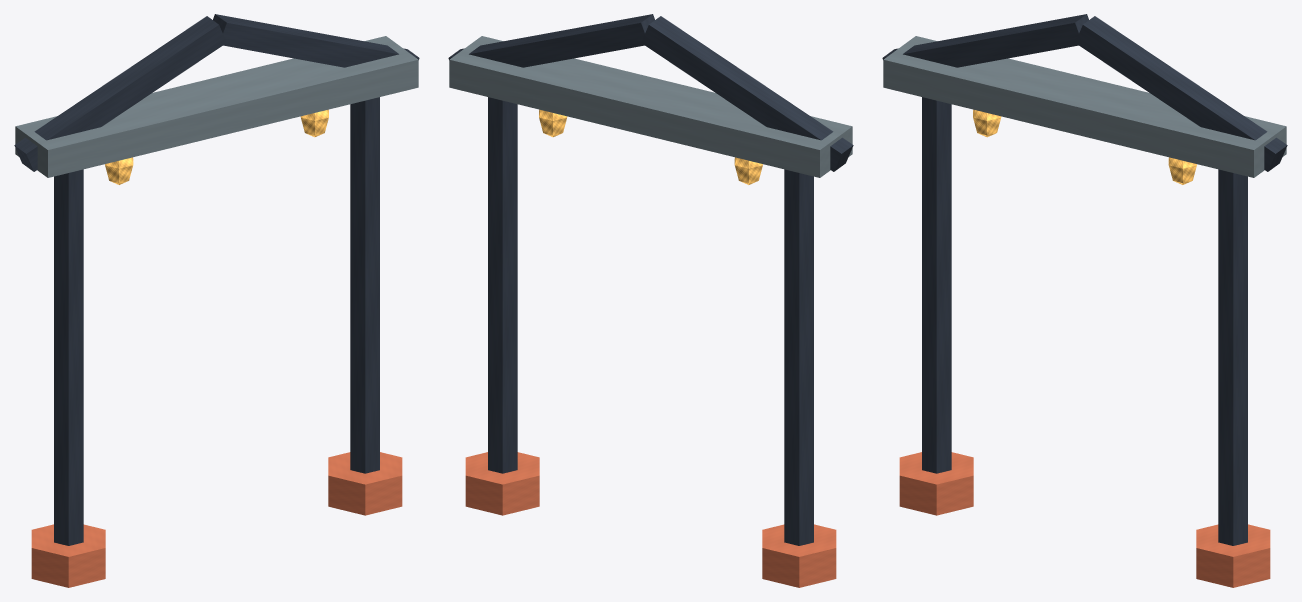
File: atlas100-s021-a09.glb
3 views of the same model, side by side, from view 1: azimuth 30°, elevation 25°; view 2: azimuth 150°, elevation 25°; view 3: azimuth 330°, elevation 25° (orthographic).
Parts seen in each view (by area): view 1: atlas100-s021-a09:part-004, atlas100-s021-a09:part-000, atlas100-s021-a09:part-002, atlas100-s021-a09:part-005, atlas100-s021-a09:part-006, atlas100-s021-a09:part-003, atlas100-s021-a09:part-001, atlas100-s021-a09:part-007, atlas100-s021-a09:part-008; view 2: atlas100-s021-a09:part-004, atlas100-s021-a09:part-000, atlas100-s021-a09:part-002, atlas100-s021-a09:part-005, atlas100-s021-a09:part-006, atlas100-s021-a09:part-003, atlas100-s021-a09:part-001, atlas100-s021-a09:part-007, atlas100-s021-a09:part-008; view 3: atlas100-s021-a09:part-004, atlas100-s021-a09:part-002, atlas100-s021-a09:part-000, atlas100-s021-a09:part-006, atlas100-s021-a09:part-005, atlas100-s021-a09:part-001, atlas100-s021-a09:part-003, atlas100-s021-a09:part-008, atlas100-s021-a09:part-007.
Part boxes in pixels (<box>): atlas100-s021-a09:part-004: <box>15,36,418,177</box>; atlas100-s021-a09:part-000: <box>54,169,83,545</box>; atlas100-s021-a09:part-002: <box>350,97,379,473</box>; atlas100-s021-a09:part-005: <box>14,16,226,171</box>; atlas100-s021-a09:part-006: <box>213,14,419,67</box>; atlas100-s021-a09:part-003: <box>328,452,402,515</box>; atlas100-s021-a09:part-001: <box>31,524,105,587</box>; atlas100-s021-a09:part-007: <box>105,157,133,184</box>; atlas100-s021-a09:part-008: <box>300,109,328,137</box>; atlas100-s021-a09:part-004: <box>449,36,852,177</box>; atlas100-s021-a09:part-000: <box>784,169,813,545</box>; atlas100-s021-a09:part-002: <box>488,97,517,473</box>; atlas100-s021-a09:part-005: <box>641,16,853,171</box>; atlas100-s021-a09:part-006: <box>448,14,654,67</box>; atlas100-s021-a09:part-003: <box>465,452,539,515</box>; atlas100-s021-a09:part-001: <box>762,524,836,587</box>; atlas100-s021-a09:part-007: <box>734,157,762,184</box>; atlas100-s021-a09:part-008: <box>539,109,567,137</box>; atlas100-s021-a09:part-004: <box>883,36,1286,177</box>; atlas100-s021-a09:part-002: <box>1218,169,1247,545</box>; atlas100-s021-a09:part-000: <box>922,97,951,473</box>; atlas100-s021-a09:part-006: <box>1075,16,1287,171</box>; atlas100-s021-a09:part-005: <box>882,14,1088,67</box>; atlas100-s021-a09:part-001: <box>899,452,973,515</box>; atlas100-s021-a09:part-003: <box>1196,524,1270,587</box>; atlas100-s021-a09:part-008: <box>1168,157,1196,184</box>; atlas100-s021-a09:part-007: <box>973,109,1001,137</box>.
Size of the model in its own units: 2.65 by 3.31 by 0.433.
4 materials, 4 textured.
